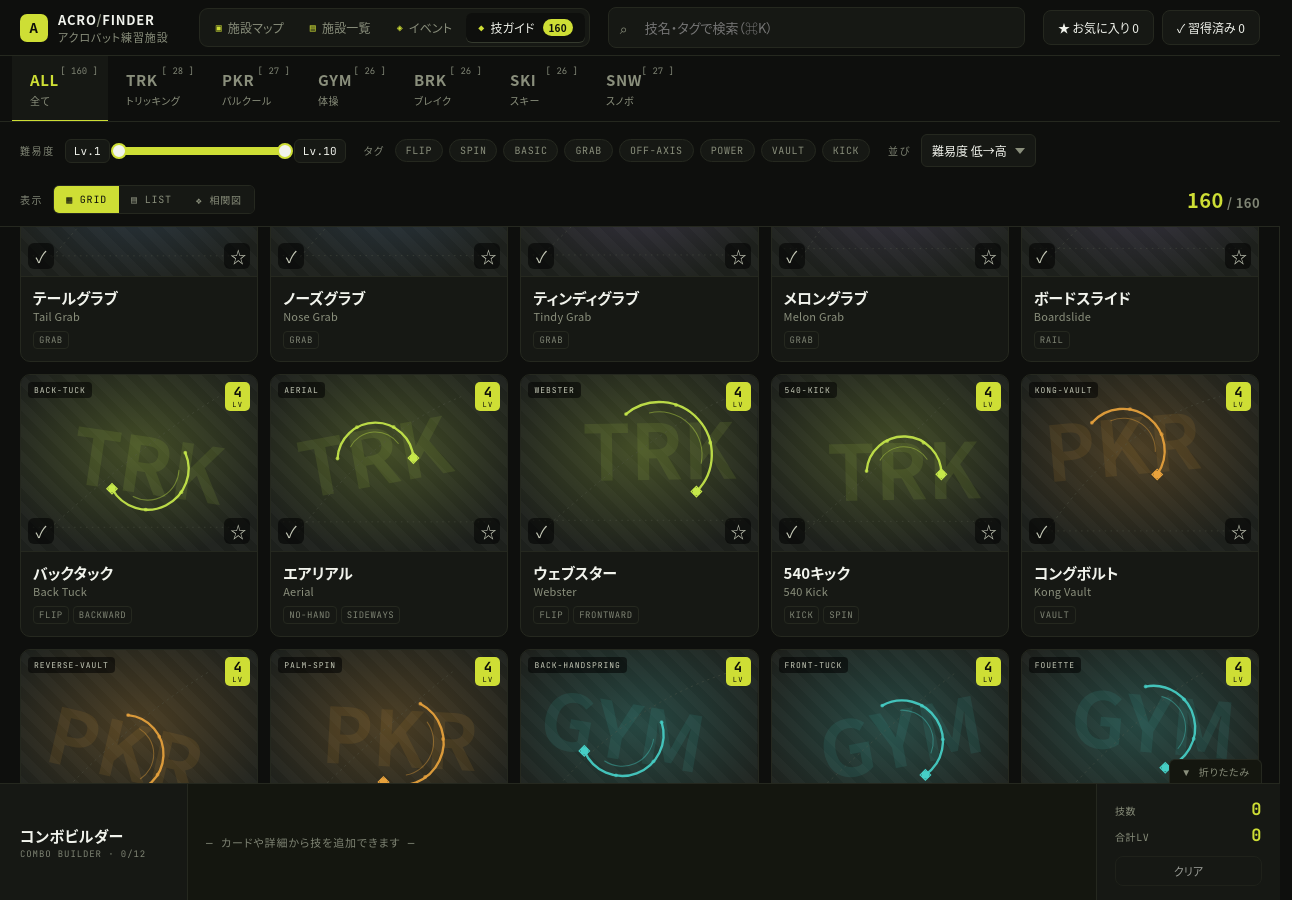
it: SkillsApp › detail panel › toggles favourite and learned from the panel
(page scrolled)
Click the element with class "skl-card" that starts with "TRK".
click(139, 505)  # box [20,374,258,637]
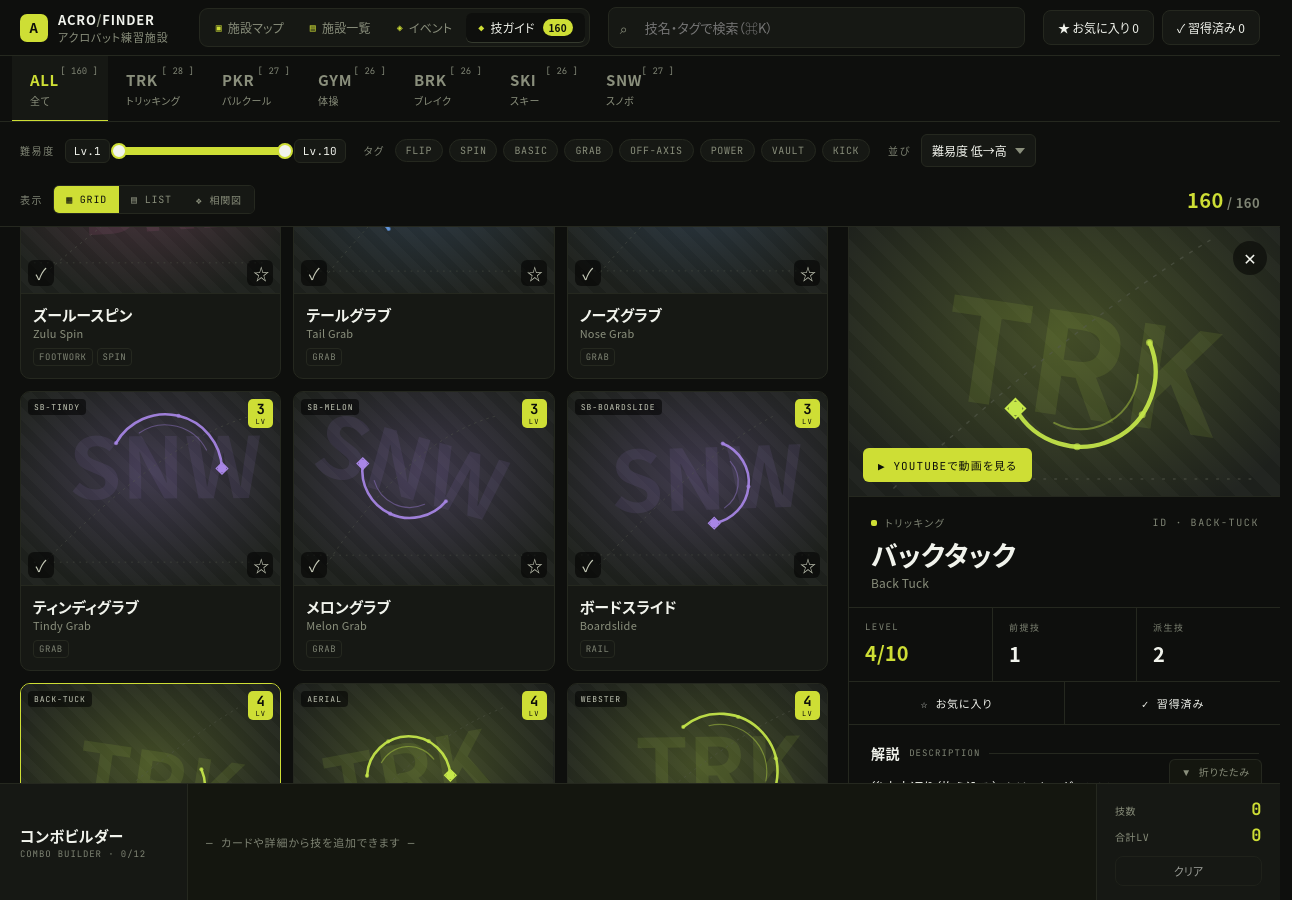
Click the button "☆ お気に入り".
click(957, 703)  # box [849,682,1065,724]
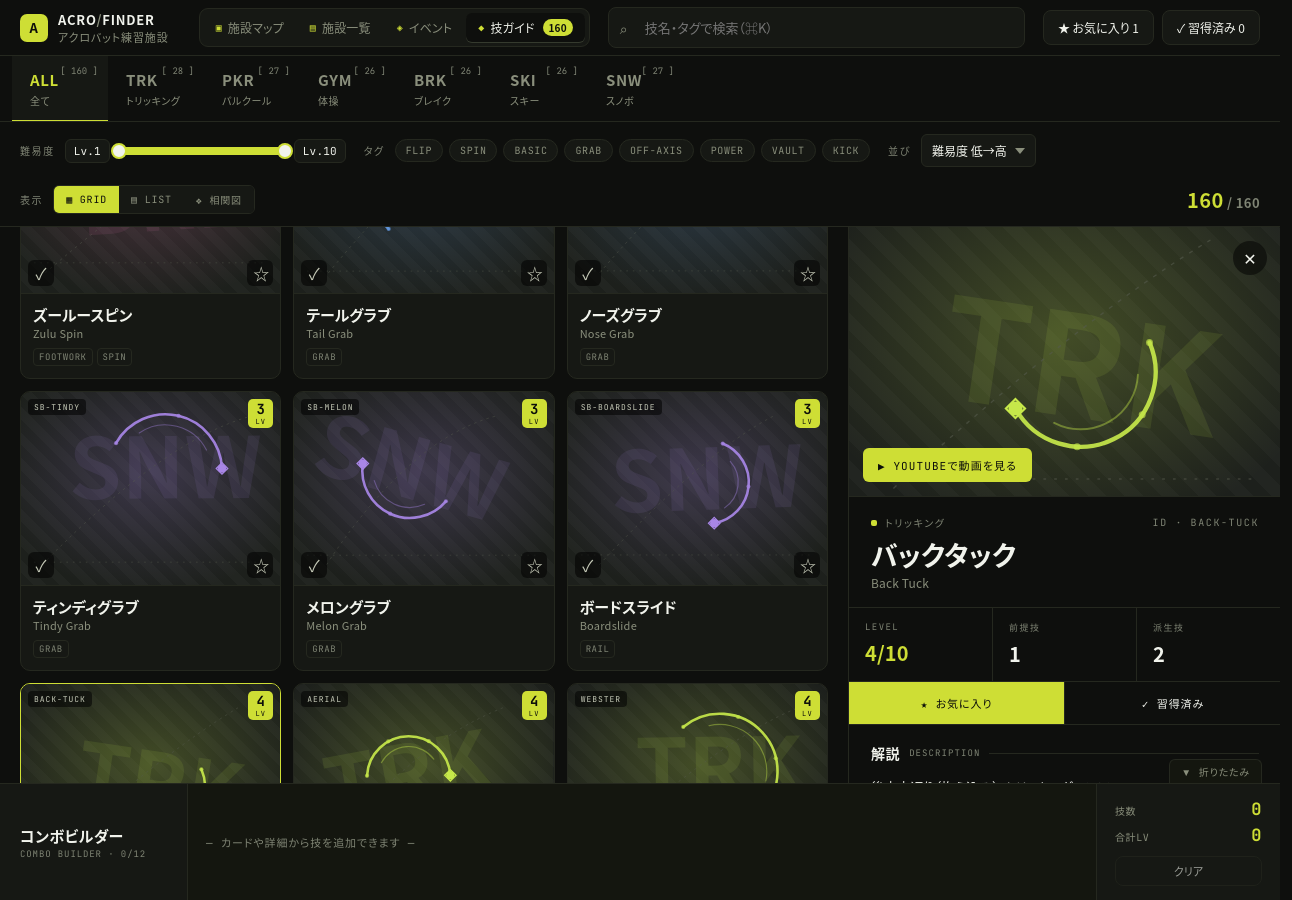
Now the button "★ お気に入り 1" is shown, box [1043,10,1154,45]
Click the button "✓ 習得済み".
click(1172, 703)  # box [1065,682,1280,724]
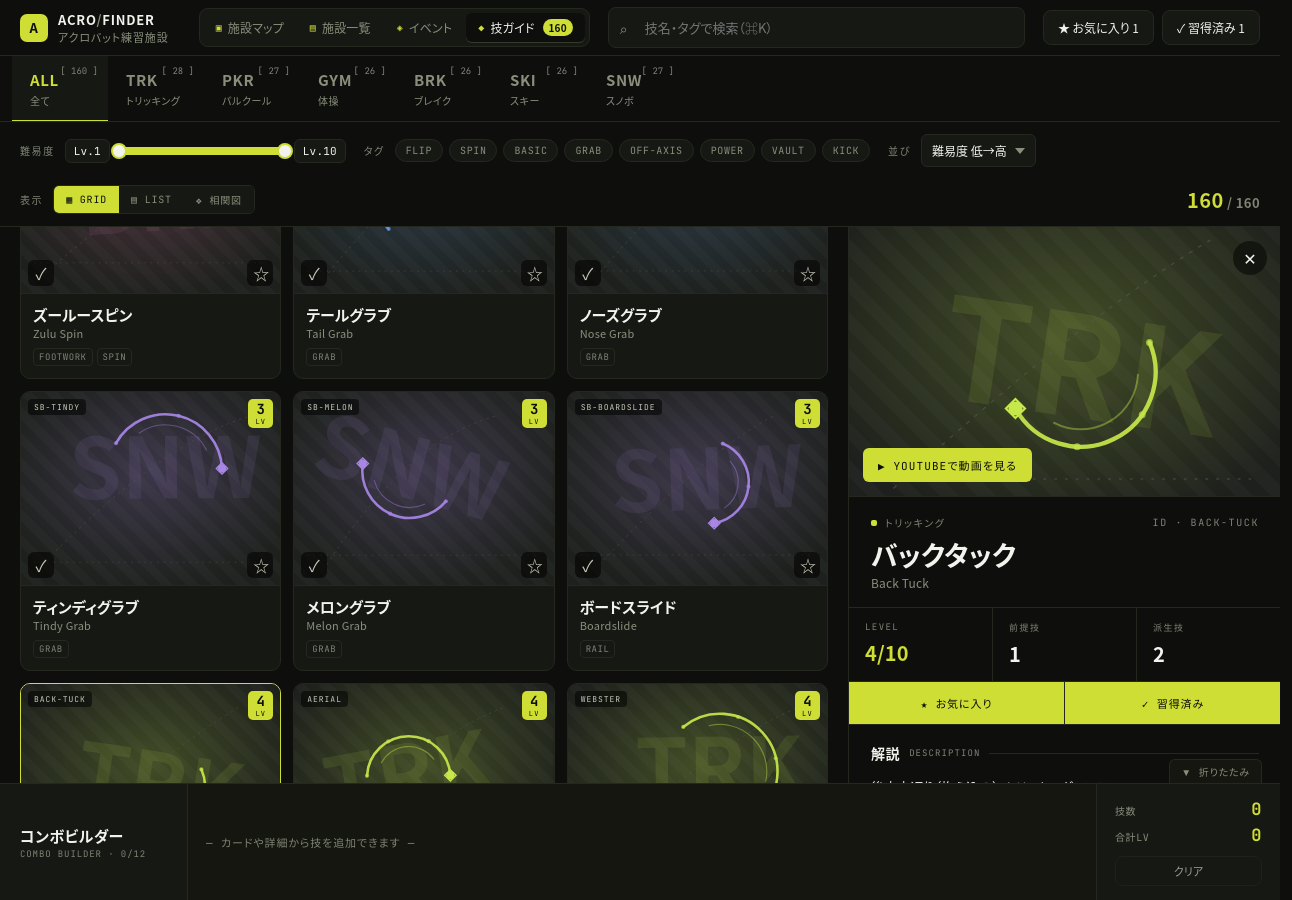
Now the button "✓ 習得済み 1" is shown, box [1162,10,1260,45]
